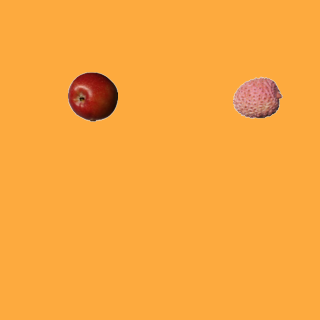Apple Braeburn: (67, 71, 117, 121)
Lychee: (232, 72, 282, 122)
